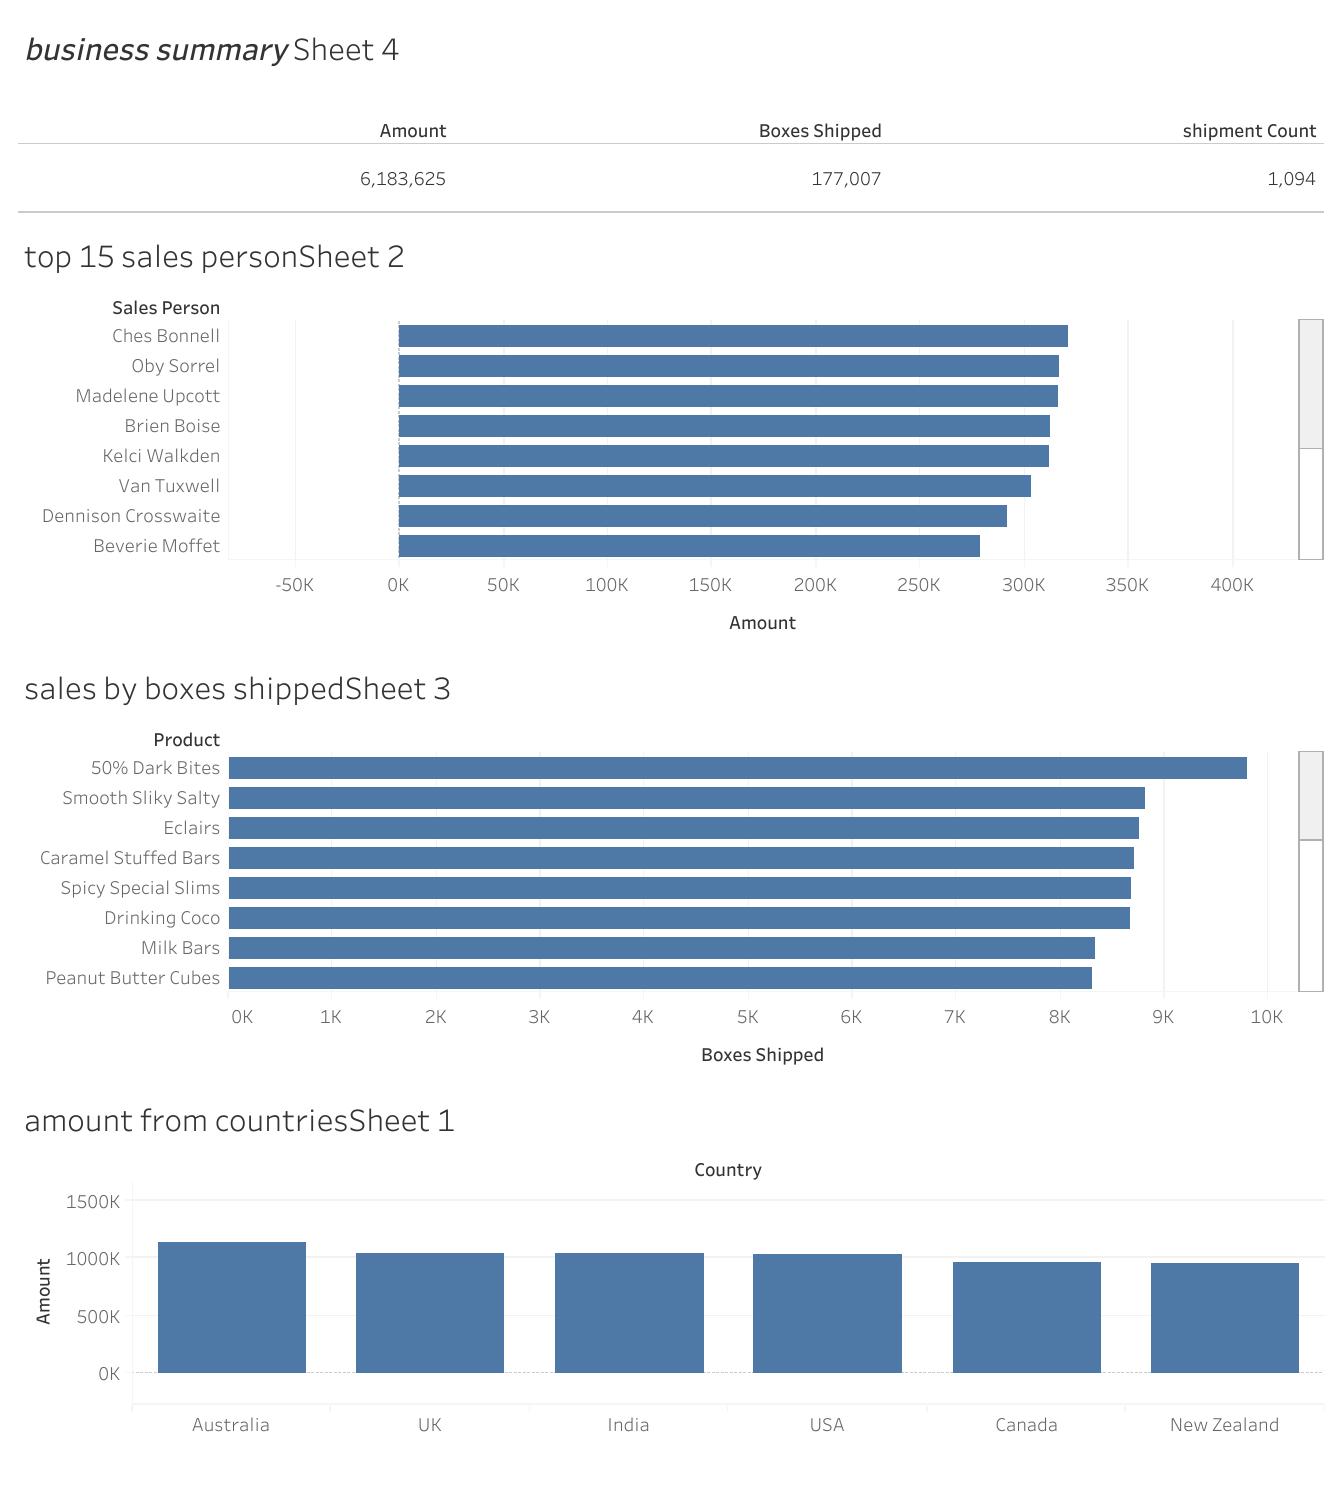

This screenshot's page, from the dashboard's own definition file:
{"tool":"tableau","page":{"name":"Dashboard 1","canvas":[1000,1000],"units":"permille","ordinal":0},"visuals":[{"type":"worksheet","title":"Sheet 4","mark":"Automatic","box":[456,24.1,332.9,162.2]},{"type":"worksheet","title":"Sheet 2","mark":"Automatic","rows":["Sales Person"],"cols":["Amount"],"box":[11.3,34.9,332.9,552.3]},{"type":"worksheet","title":"Sheet 3","mark":"Automatic","rows":["Product"],"cols":["Boxes Shipped"],"box":[398.2,189,332.9,758.7]},{"type":"worksheet","title":"Sheet 1","mark":"Automatic","rows":["Amount"],"cols":["Country"],"box":[11.3,636.7,332.9,312.3]}]}

Visuals, with their boxes on the dashboard's canvas, which has no fixed pixel size, in thousandths of its width and height (x1, y1, x2, y2). These are canvas units, not pixel positions in the 1341x1499 screenshot, which may show the page scaled, cropped or inside an application window:
"Sheet 4" worksheet: 456, 24, 789, 186
"Sheet 2" worksheet: 11, 35, 344, 587
"Sheet 3" worksheet: 398, 189, 731, 948
"Sheet 1" worksheet: 11, 637, 344, 949
